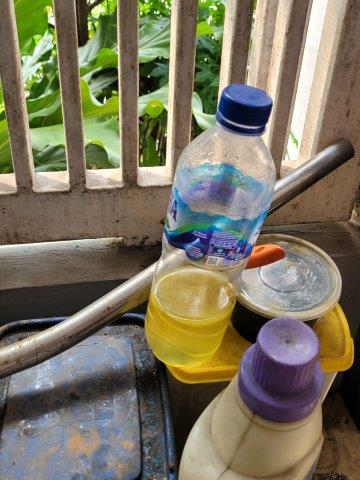botolplastik: (145, 85, 276, 367)
